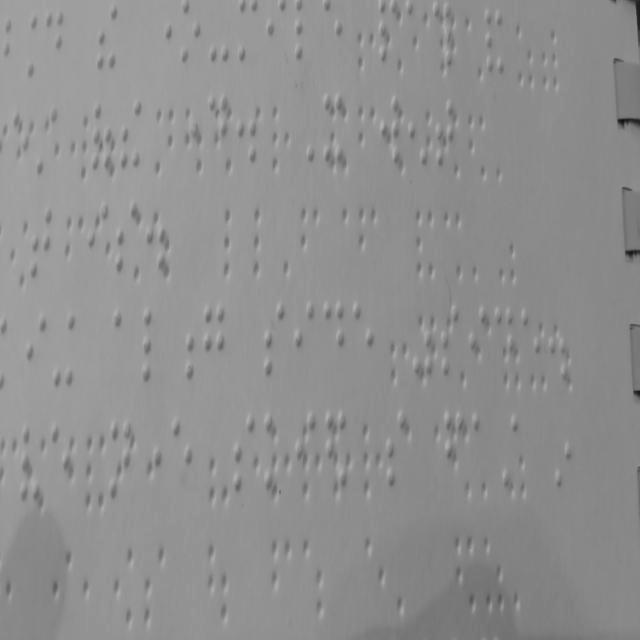braiile: (141, 298, 171, 390), (108, 412, 136, 504), (440, 407, 468, 499), (260, 409, 288, 499), (201, 298, 228, 390), (169, 408, 195, 502), (350, 298, 376, 390), (17, 416, 42, 509), (23, 308, 48, 399), (293, 412, 318, 502), (493, 299, 517, 392), (518, 299, 542, 392), (319, 91, 346, 173), (50, 420, 74, 512), (232, 409, 256, 499), (41, 4, 66, 90), (264, 298, 288, 387), (322, 298, 346, 387), (466, 294, 488, 391), (386, 408, 410, 496), (377, 86, 402, 170), (470, 409, 494, 496), (30, 200, 54, 284), (294, 292, 316, 383), (440, 296, 462, 386), (116, 196, 140, 278), (206, 88, 230, 168), (434, 90, 456, 170), (233, 0, 259, 67), (86, 198, 108, 277), (0, 7, 21, 87), (115, 310, 136, 390), (10, 106, 32, 182), (180, 0, 200, 71)
